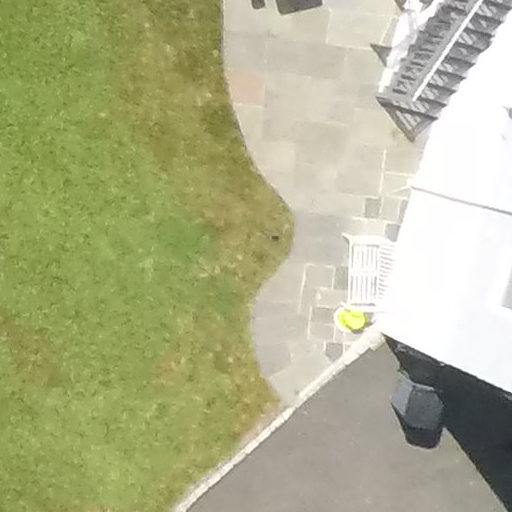garbage bin: (386, 363, 452, 445)
